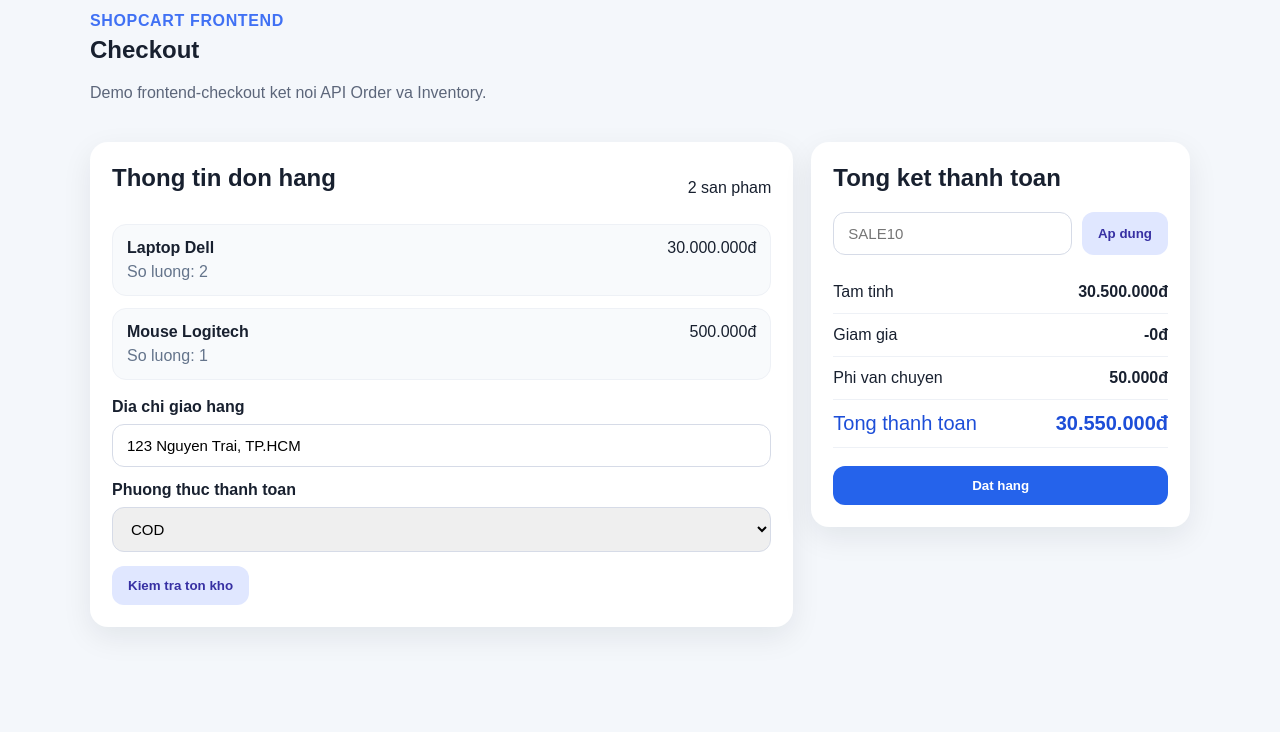
Test: Checkout Integration Tests › TC_CHECKOUT_INT_004: Hien thi canh bao khi ton kho khong du
What coordinates should you click on to do the following:
click the button with test id "check-inventory-btn"
I would click on:
 (181, 585)
Its box is [112, 566, 249, 605].
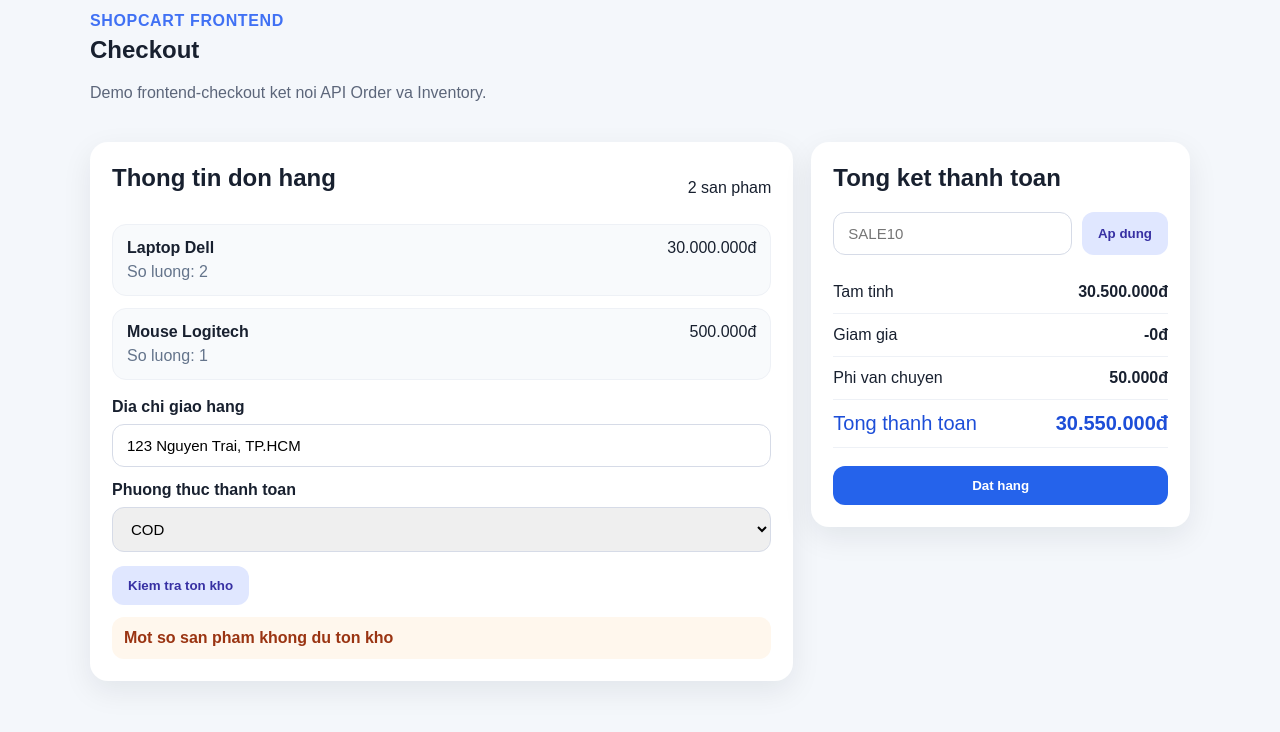
Check: the text with test id "inventory-warning" reads "Mot so san pham khong du ton kho", box [124, 629, 393, 646]
